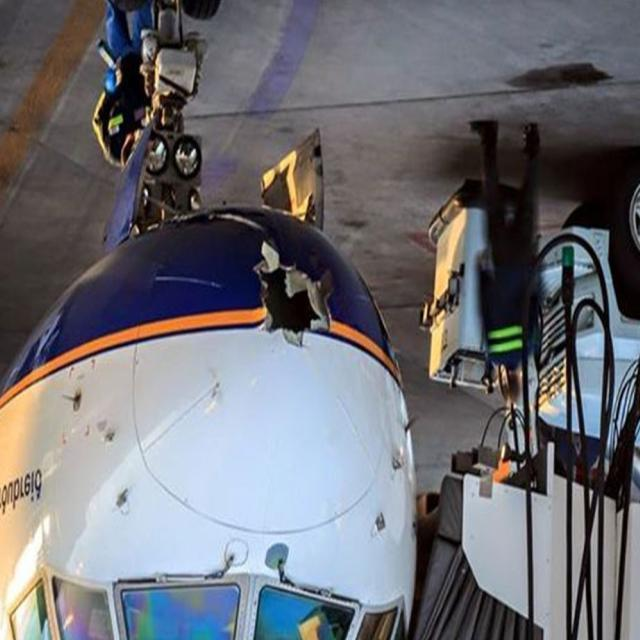crack: (249, 231, 338, 356)
